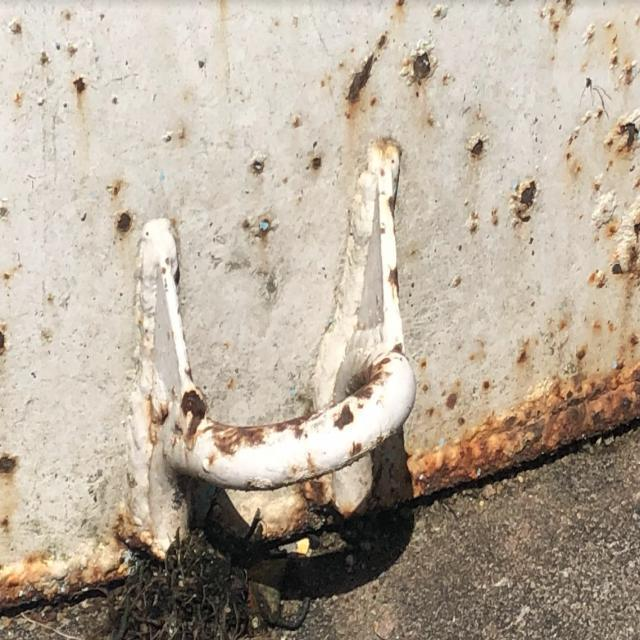Corrosion: (0, 0, 639, 616), (119, 135, 417, 560), (405, 355, 639, 498)
